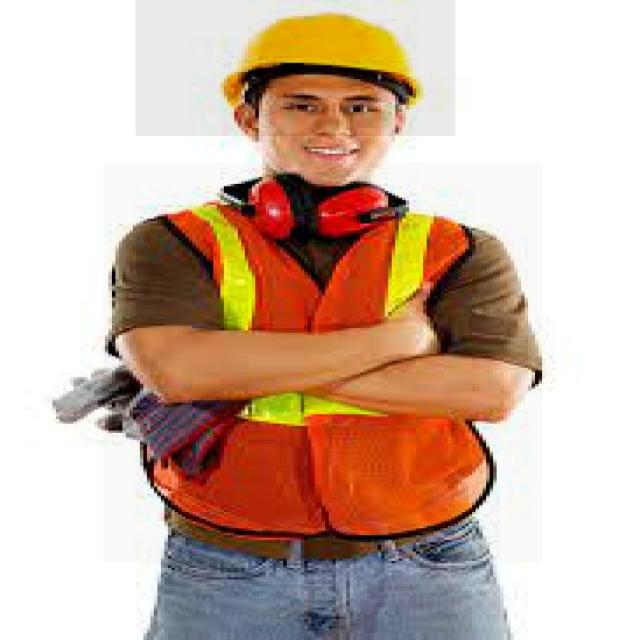Helmet: (136, 0, 456, 136)
Safety Vest: (103, 162, 543, 564)
